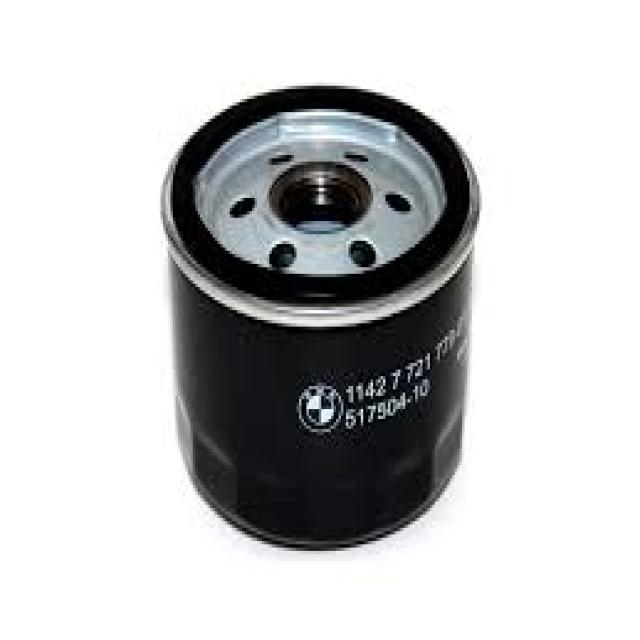oil_filter: (147, 80, 484, 553)
